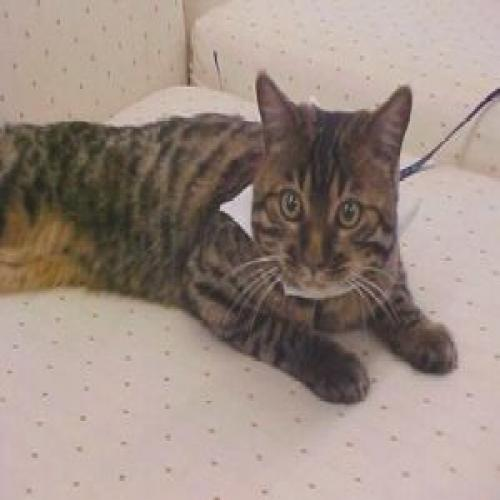bengal: (245, 62, 415, 320)
